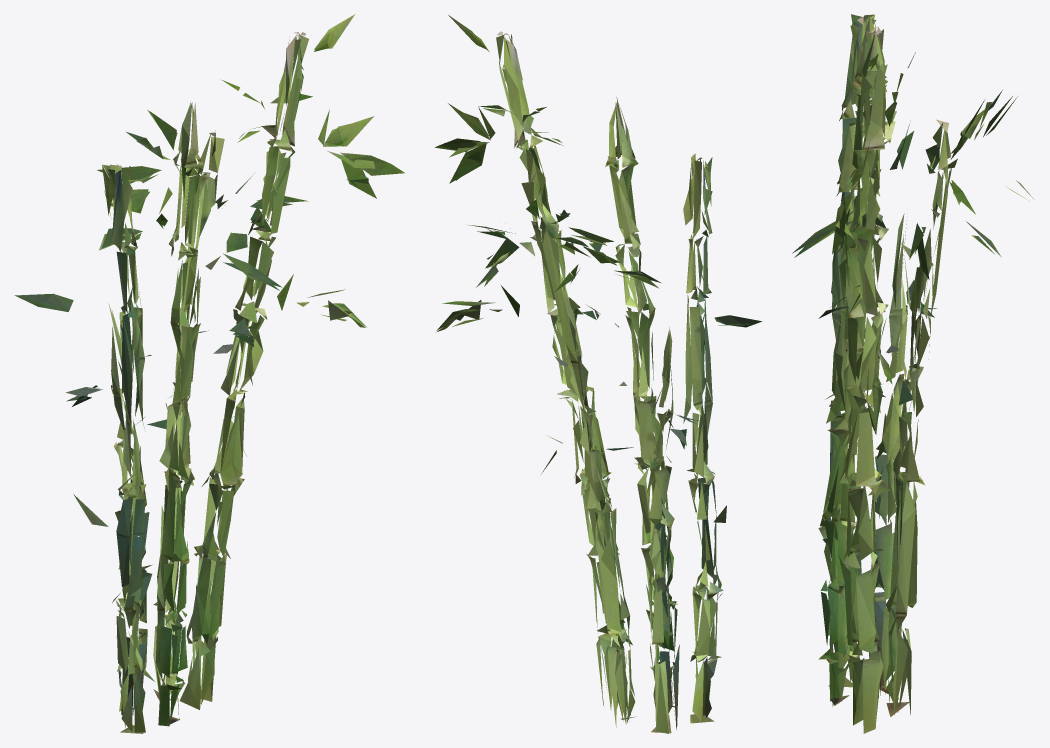
The model's file is bamboo.glb.
3 renders of one model, left to right at view 1: azimuth 30°, elevation 25°; view 2: azimuth 150°, elevation 25°; view 3: azimuth 270°, elevation 25°, orthographic. The views are drawn at different scales.
Visible parts, largest first — view 1: geometry_0; view 2: geometry_0; view 3: geometry_0.
Part boxes in pixels (left/top/right/bottom): geometry_0: left=14, top=14, right=404, bottom=733; geometry_0: left=435, top=15, right=761, bottom=733; geometry_0: left=792, top=14, right=1034, bottom=733.
Bounding box in the file's own units: 1.13 × 1.96 × 0.5681.
Materials: 1 (1 with a texture image).
